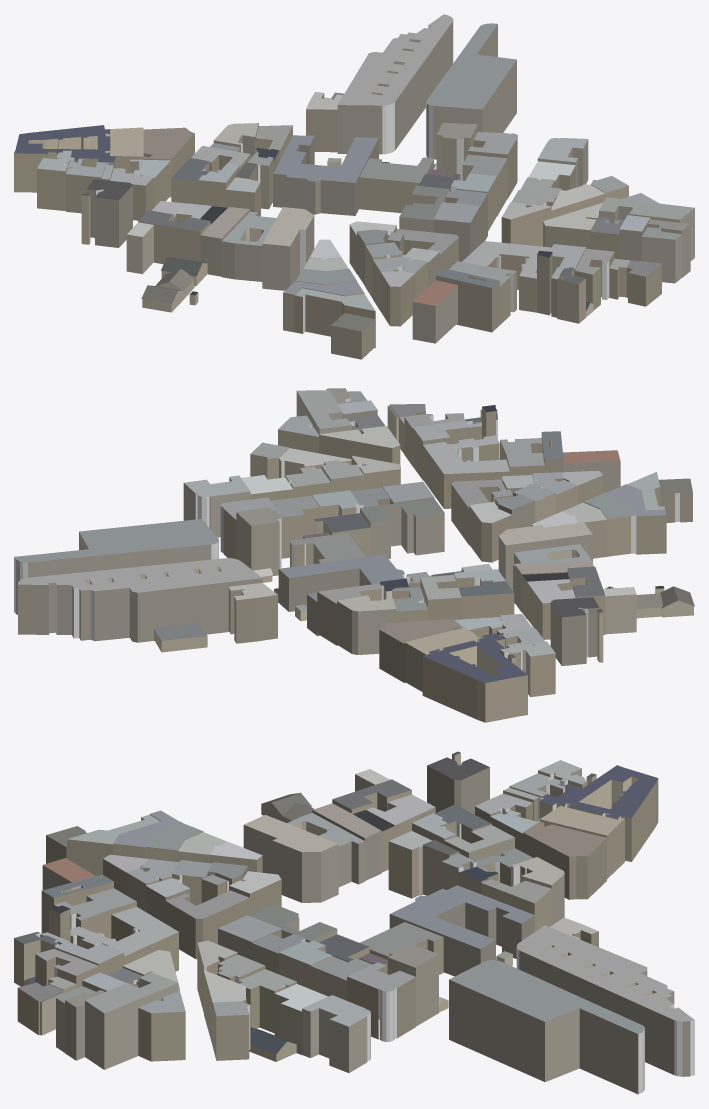
The picture shows the model from 3 angles, top to bottom: view 1: azimuth 30°, elevation 25°; view 2: azimuth 150°, elevation 25°; view 3: azimuth 270°, elevation 25°; orthographic projection. The views are drawn at different scales.
Parts seen in each view (by area): view 1: tuile; view 2: tuile; view 3: tuile.
Part boxes in pixels (box(x1,y1,x2,y2)): tuile: box(14, 14, 694, 359); tuile: box(14, 388, 694, 722); tuile: box(14, 751, 694, 1094).
Bounding box in the file's own units: 278 × 32.59 × 284.
